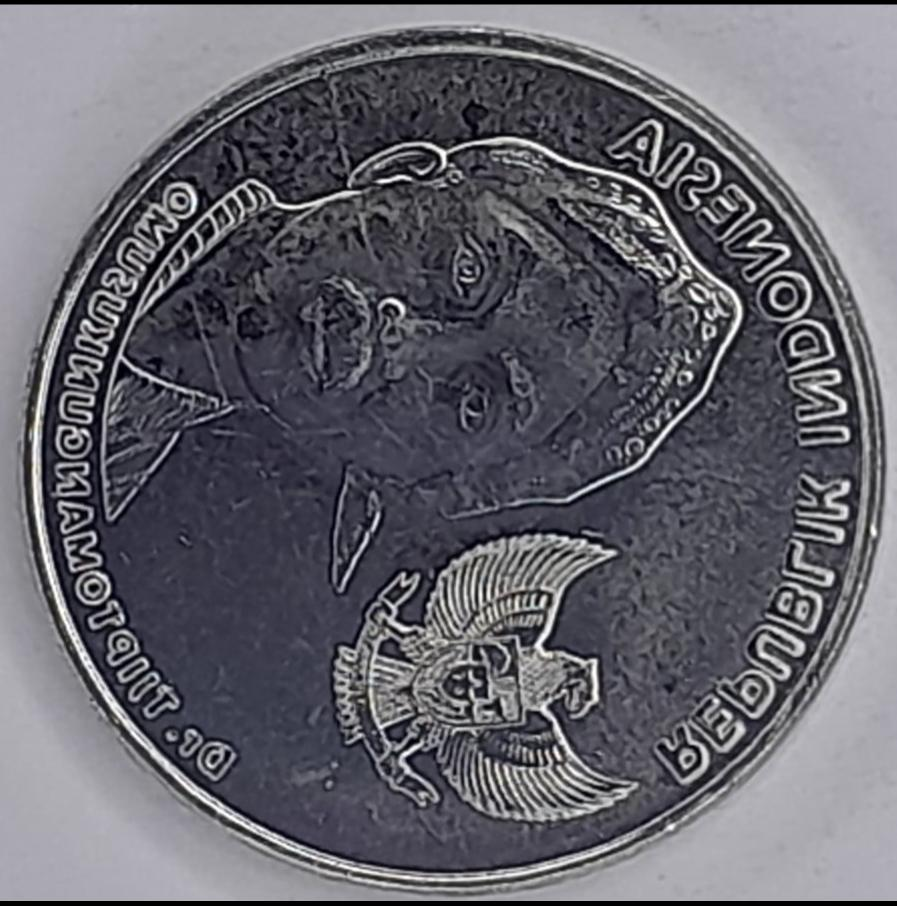coin_200_e2016: (0, 16, 897, 906)
